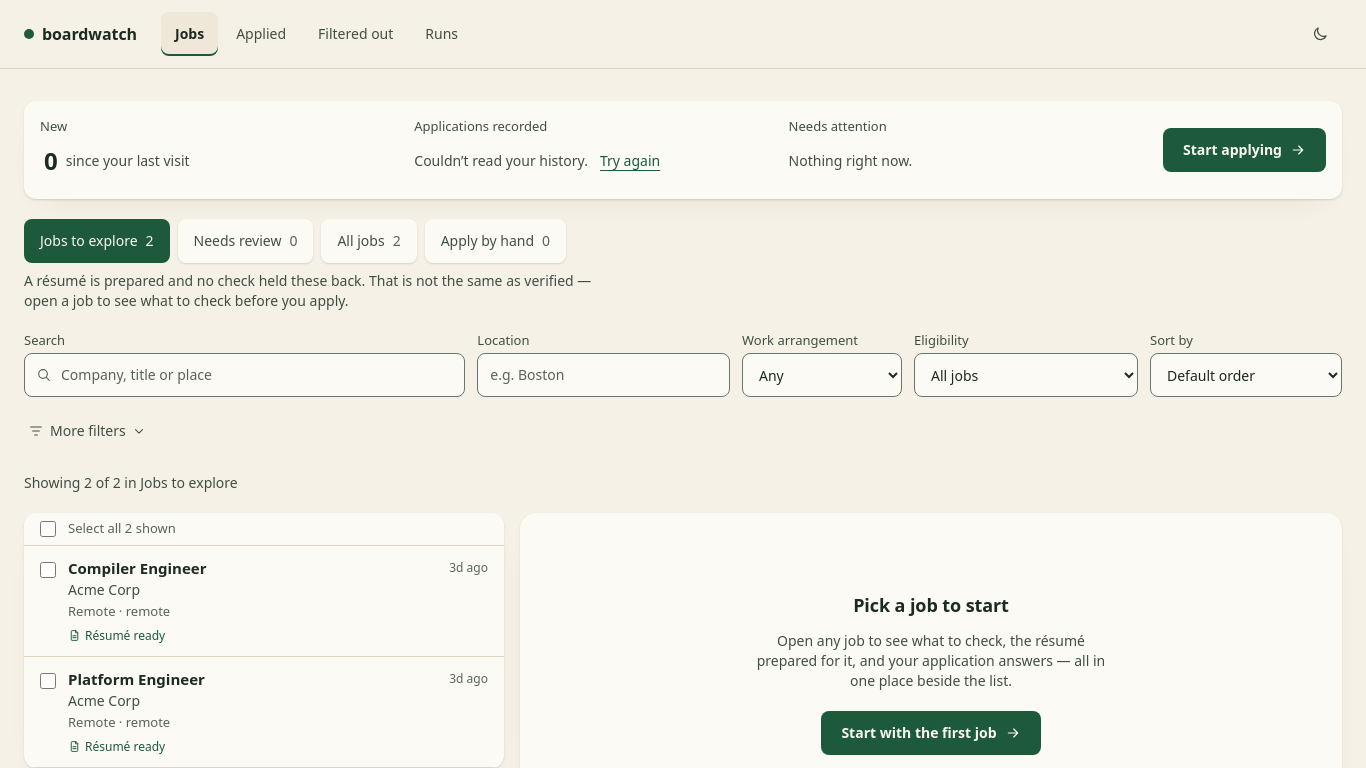
Test: the narrow-tier detail sheet › announces itself as a modal dialog named by its heading
The image size is (1366, 768).
Expected: the table named "Jobs to explore" is shown, top-left (24, 513), bottom-right (504, 767)
Click the row that starts with "Compiler Engineer" at (264, 601), box top-left (24, 546), bottom-right (504, 657)
(page scrolled)
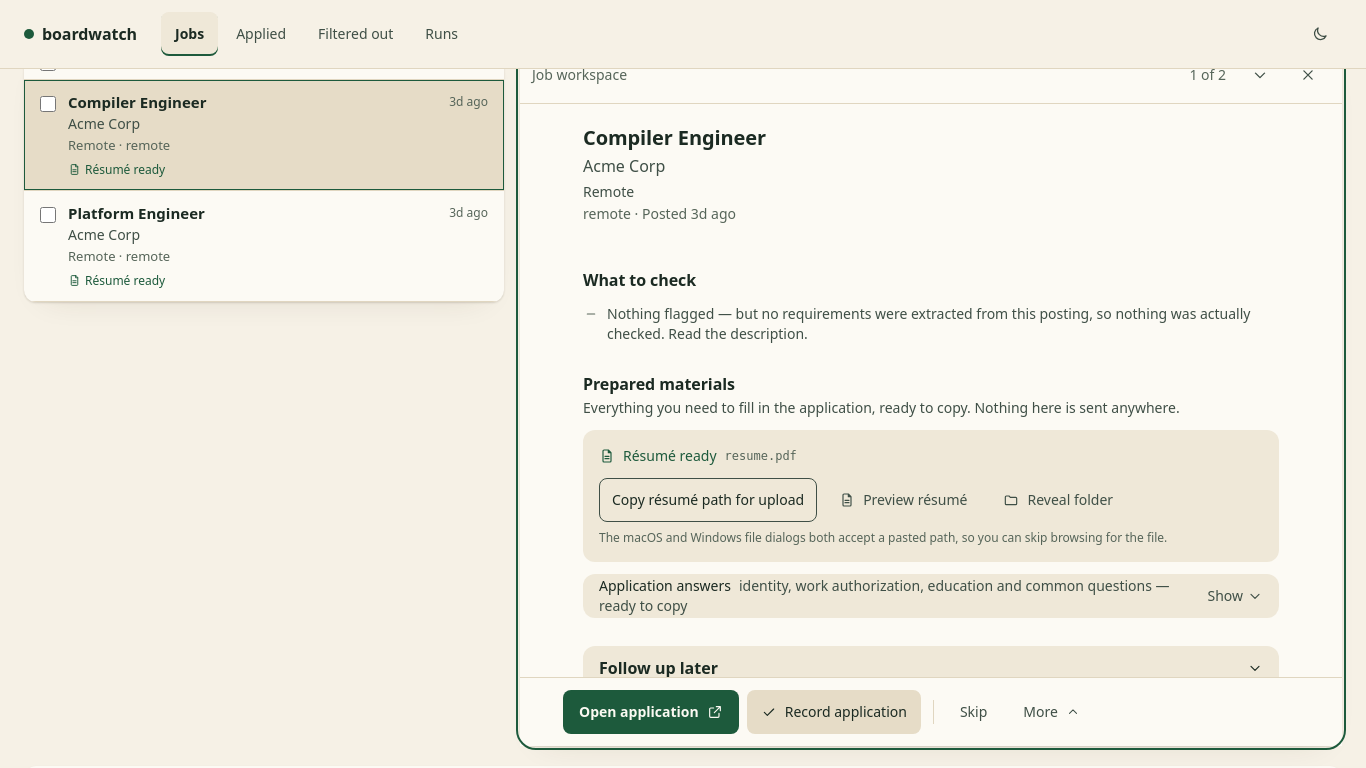
Expected: the heading "Compiler Engineer" is shown, top-left (583, 124), bottom-right (766, 151)
